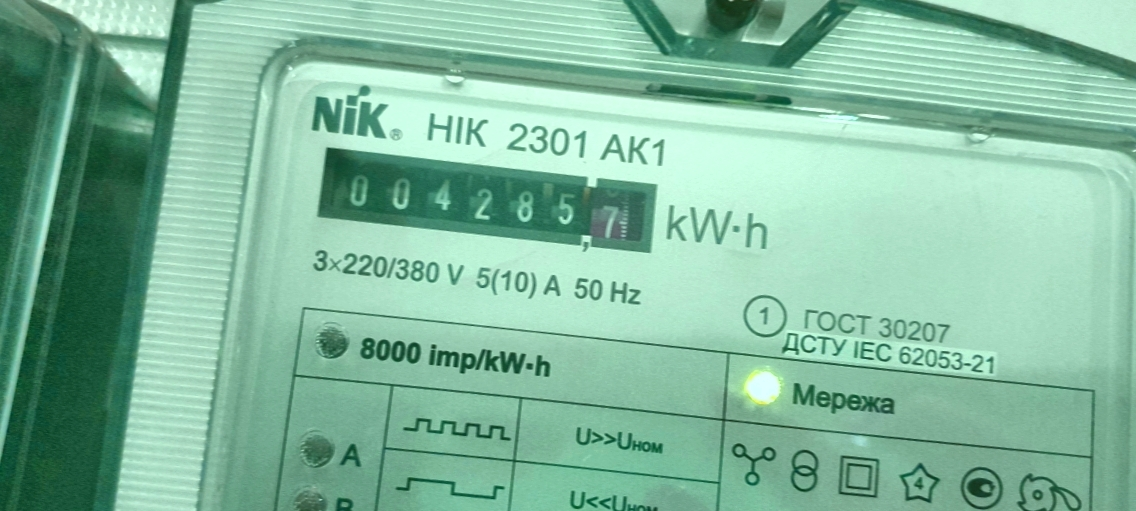0: (389, 175, 415, 214), (347, 172, 372, 210)
2: (472, 186, 496, 224)
4: (433, 177, 455, 214)
5: (554, 190, 579, 228)
7: (597, 203, 621, 242)
8: (512, 188, 538, 227)
screen: (301, 130, 676, 276)
